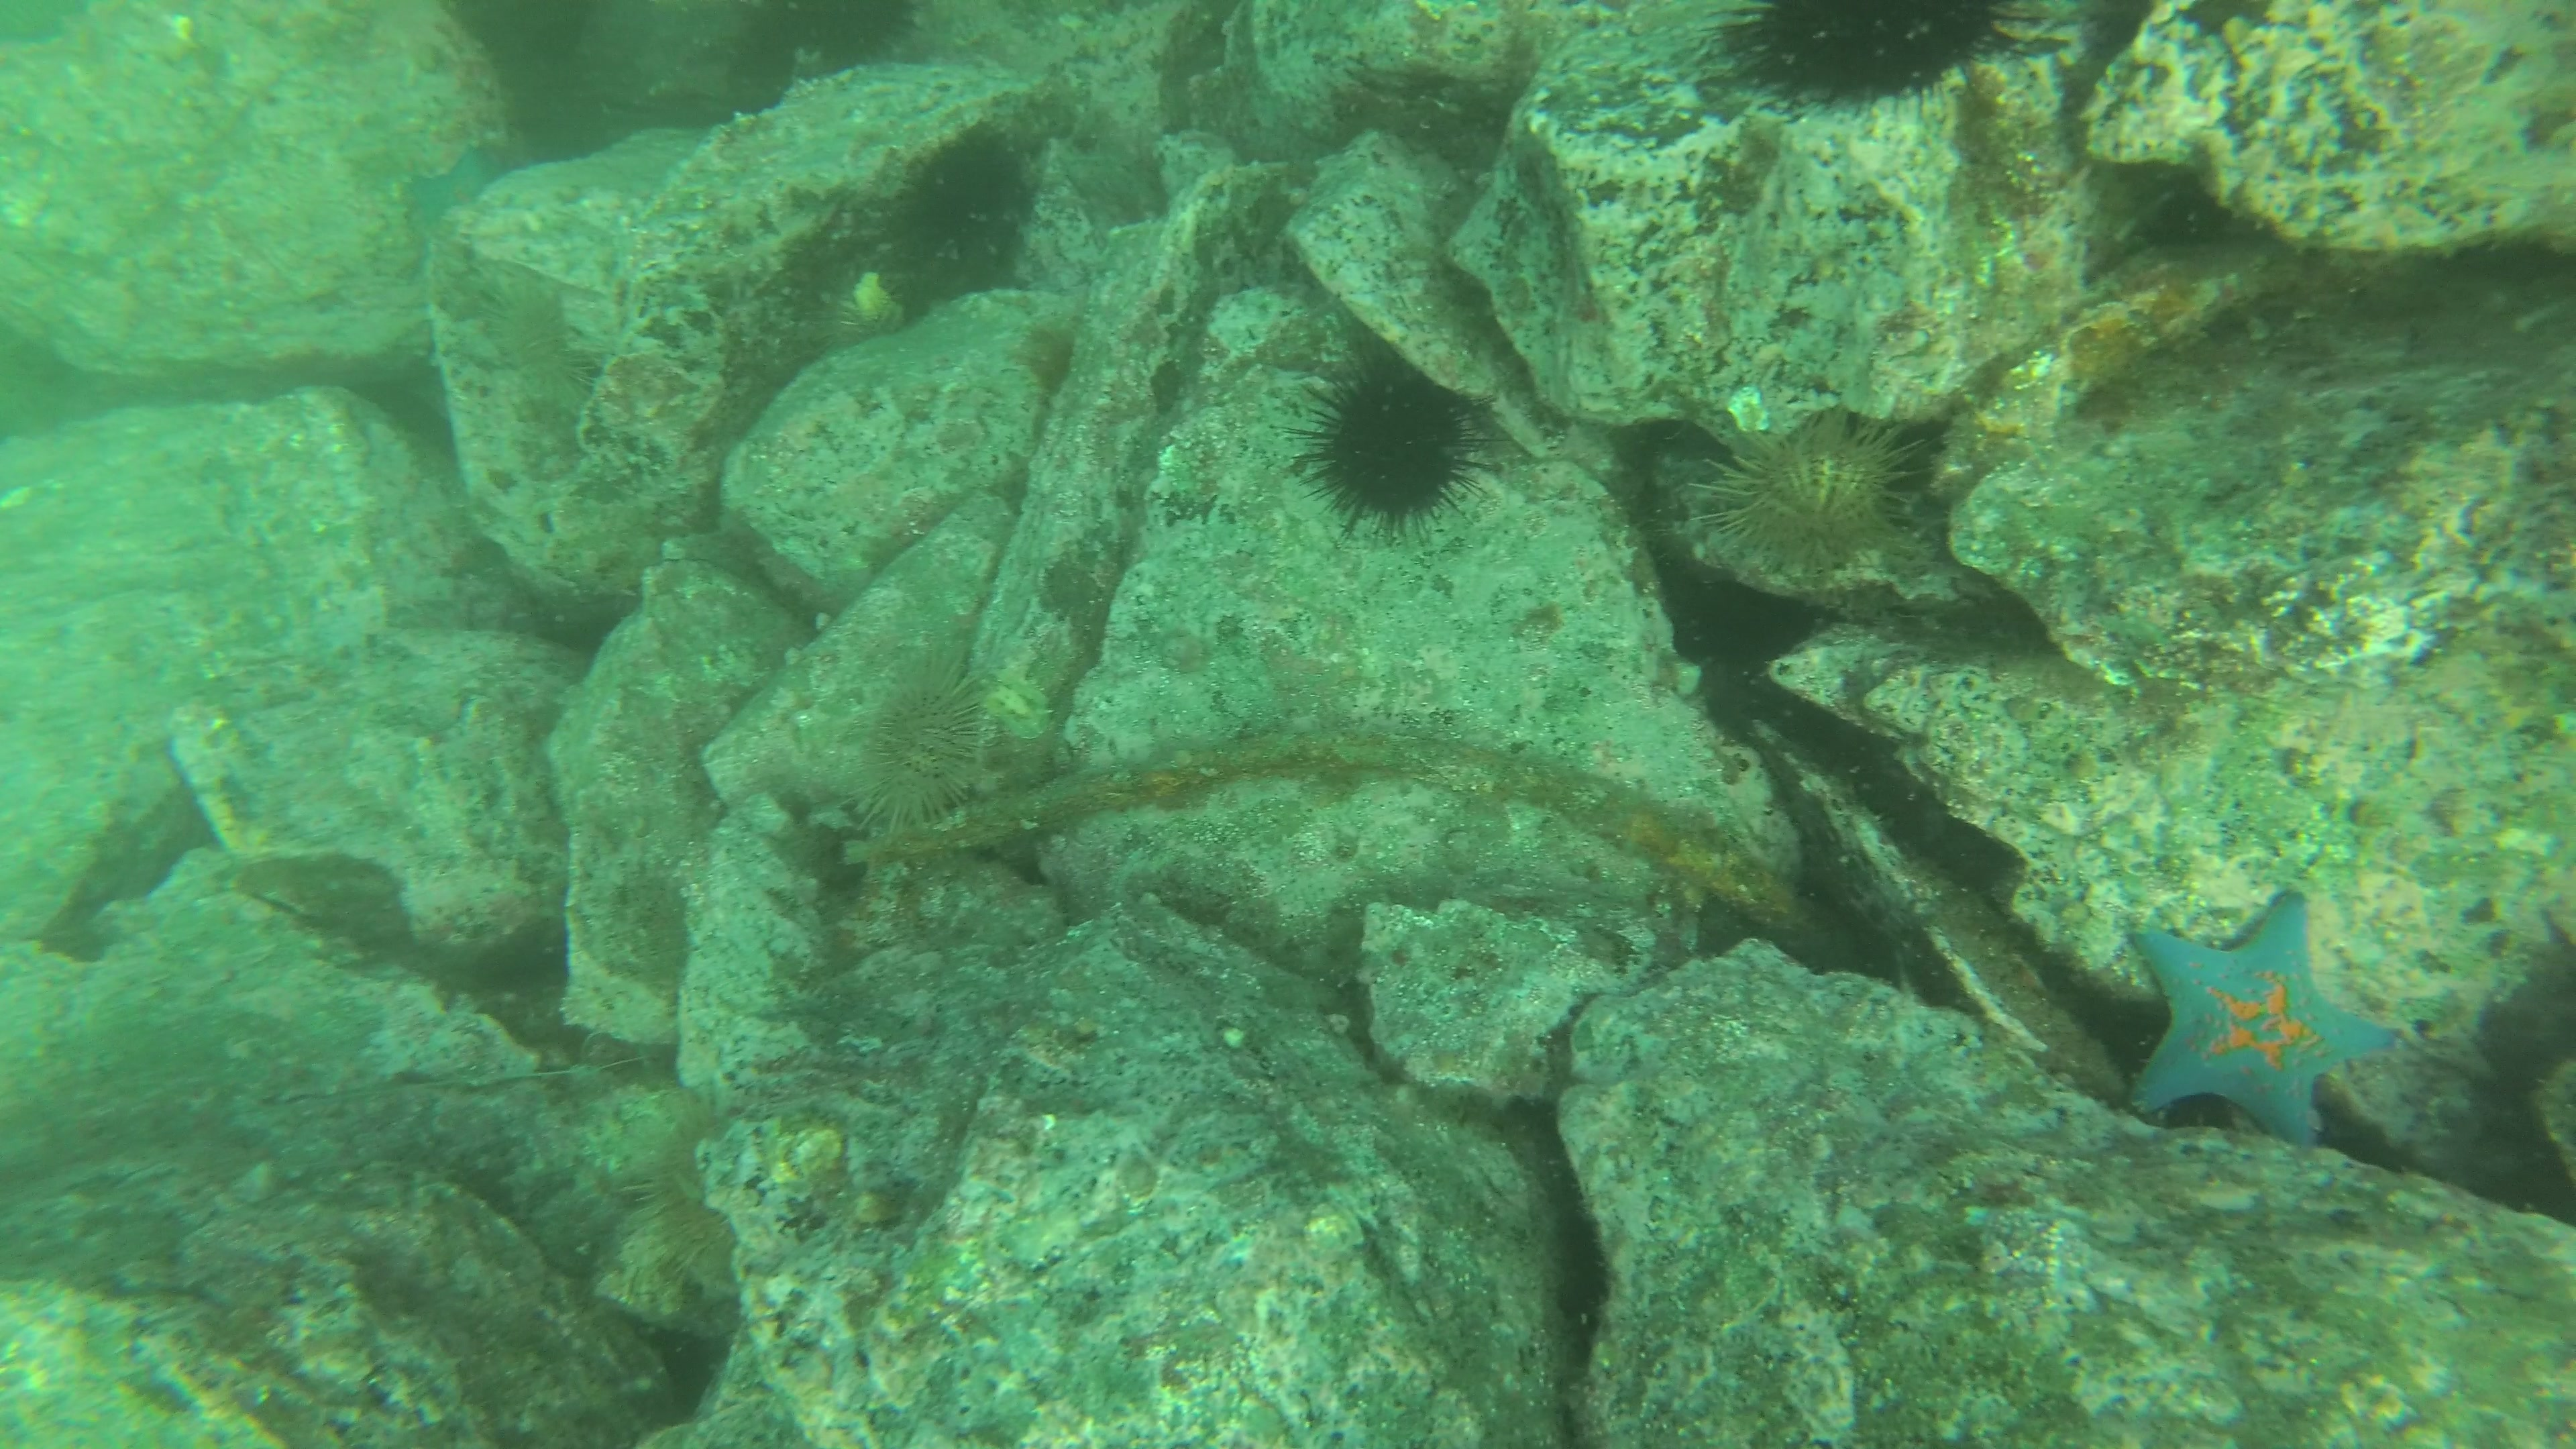echinus: (1716, 419, 1921, 582), (1311, 364, 1472, 527), (1736, 2, 1985, 92), (867, 681, 993, 830), (890, 124, 1010, 244)
starfish: (2128, 885, 2392, 1155), (400, 150, 501, 249)
